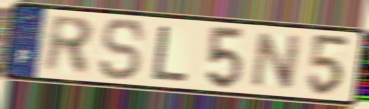5: (304, 32, 352, 99), (203, 25, 245, 91)
L: (150, 24, 192, 84)
N: (247, 30, 306, 91)
R: (42, 12, 96, 78)
S: (98, 16, 147, 82)
